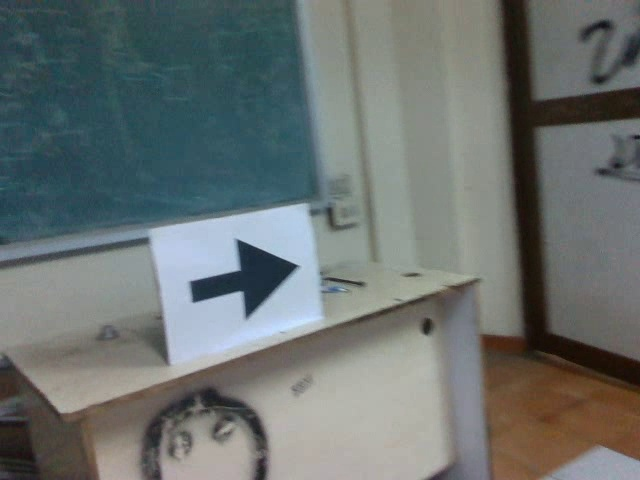Right: (183, 234, 301, 323)
